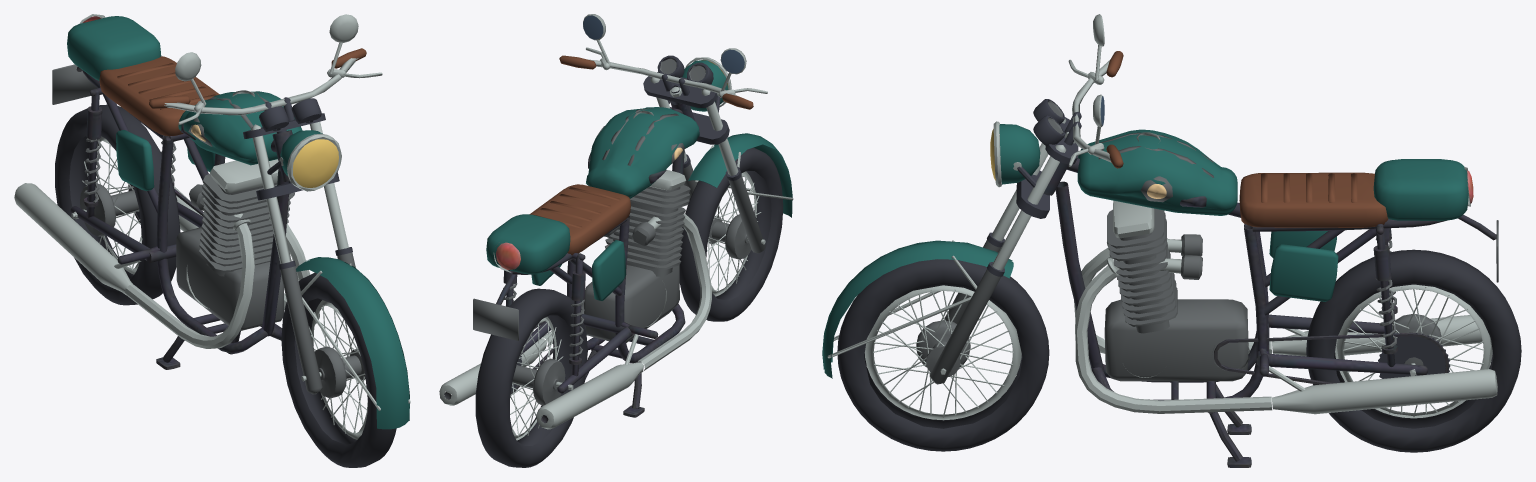
The model's file is motorcycle-X2MA3DVF.glb.
3 views of the same model, side by side, from view 1: azimuth 30°, elevation 25°; view 2: azimuth 150°, elevation 25°; view 3: azimuth 270°, elevation 25° (orthographic). The views are drawn at different scales.
Parts seen in each view (by area): view 1: motorcycle_body, motorcycle_steering, motorcycle_wheel_front, motorcycle_wheel_rear; view 2: motorcycle_body, motorcycle_wheel_rear, motorcycle_steering, motorcycle_wheel_front; view 3: motorcycle_body, motorcycle_wheel_front, motorcycle_wheel_rear, motorcycle_steering.
Part boxes in pixels (bbox=[...]): motorcycle_body: bbox=[14, 14, 319, 369]; motorcycle_steering: bbox=[149, 14, 410, 429]; motorcycle_wheel_front: bbox=[281, 272, 396, 467]; motorcycle_wheel_rear: bbox=[55, 104, 180, 305]; motorcycle_body: bbox=[439, 101, 711, 429]; motorcycle_wheel_rear: bbox=[475, 288, 587, 467]; motorcycle_steering: bbox=[559, 14, 793, 253]; motorcycle_wheel_front: bbox=[679, 147, 783, 321]; motorcycle_body: bbox=[1043, 129, 1498, 467]; motorcycle_wheel_front: bbox=[837, 259, 1049, 451]; motorcycle_wheel_rear: bbox=[1306, 249, 1521, 452]; motorcycle_steering: bbox=[822, 14, 1123, 384].
Size of the model in its own units: 0.7964 by 1.31 by 2.11.
10 materials, 1 textured.
